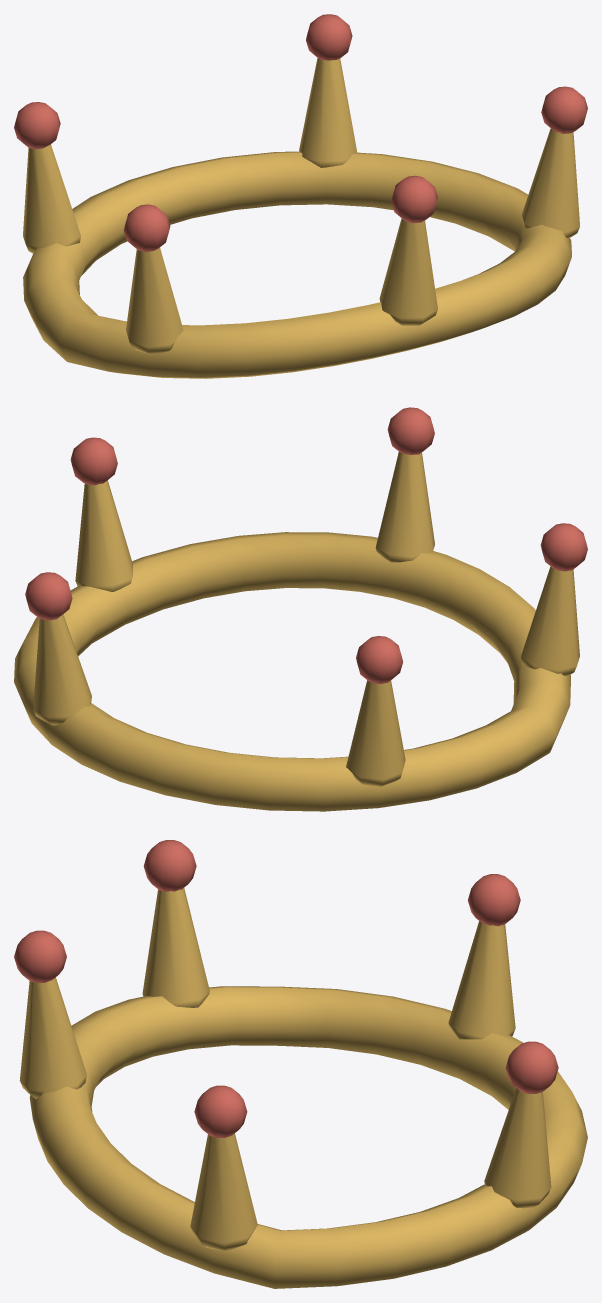
Rendered from crown.glb.
3 renders of one model, top to bottom at view 1: azimuth 30°, elevation 25°; view 2: azimuth 150°, elevation 25°; view 3: azimuth 270°, elevation 25°, orthographic. The views are drawn at different scales.
Visible parts, largest first — view 1: crown_Head; view 2: crown_Head; view 3: crown_Head.
Part boxes in pixels (left/top/right/bottom): crown_Head: left=14, top=14, right=587, bottom=378; crown_Head: left=14, top=407, right=587, bottom=811; crown_Head: left=14, top=840, right=587, bottom=1288.
Bounding box in the file's own units: 0.5319 × 0.2141 × 0.4763.
